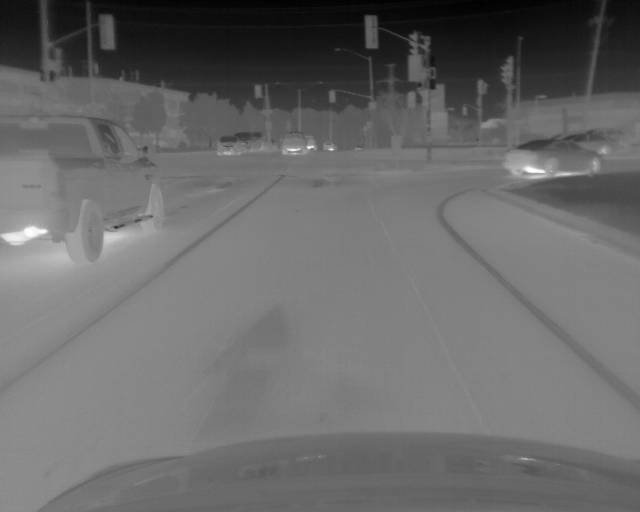car: (1, 113, 166, 264), (502, 140, 601, 176), (552, 133, 619, 156), (280, 135, 307, 157), (215, 135, 240, 156), (250, 131, 267, 151), (238, 132, 251, 153), (305, 134, 315, 151), (323, 140, 336, 150)
